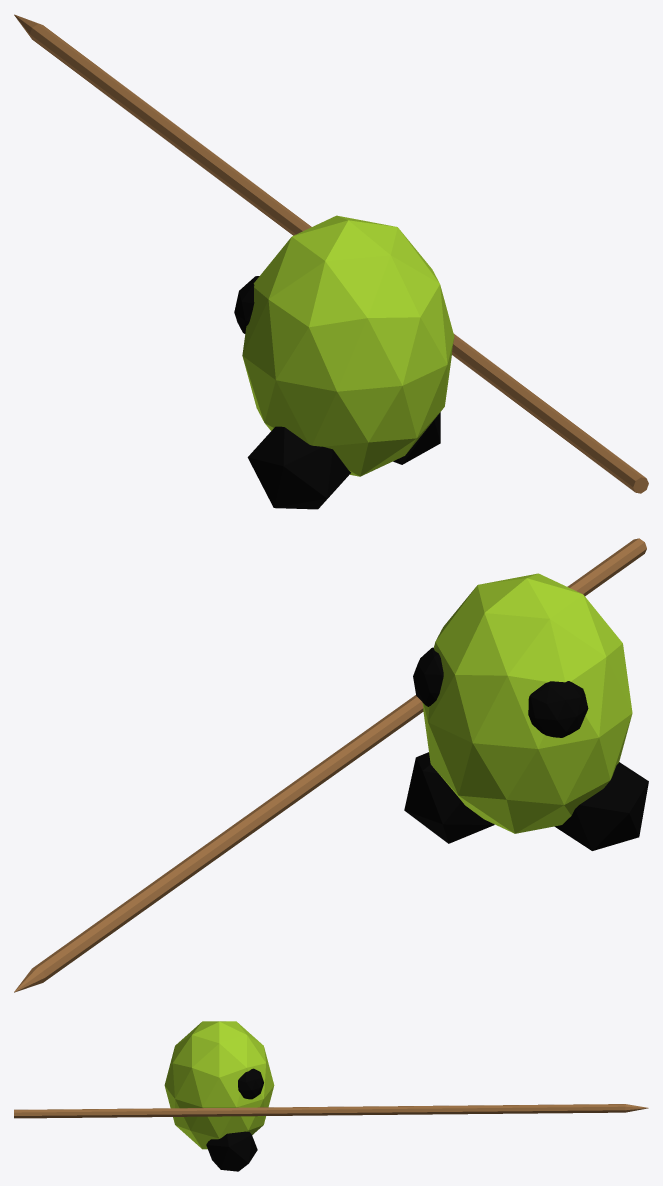
Rendered from walk.f0021.glb.
3 renders of one model, top to bottom at view 1: azimuth 30°, elevation 25°; view 2: azimuth 150°, elevation 25°; view 3: azimuth 270°, elevation 25°, orthographic. The views are drawn at different scales.
Parts seen in each view (by area): view 1: Body.001; view 2: Body.001; view 3: Body.001.
Boxes of the visible parts, box(x1,y1,x2,y2) form: Body.001: box(14, 14, 648, 509); Body.001: box(14, 538, 648, 992); Body.001: box(14, 1021, 648, 1171).
Bounding box in the file's own units: 2.17 × 2.72 × 11.56.
Materials: 1 (1 with a texture image).
